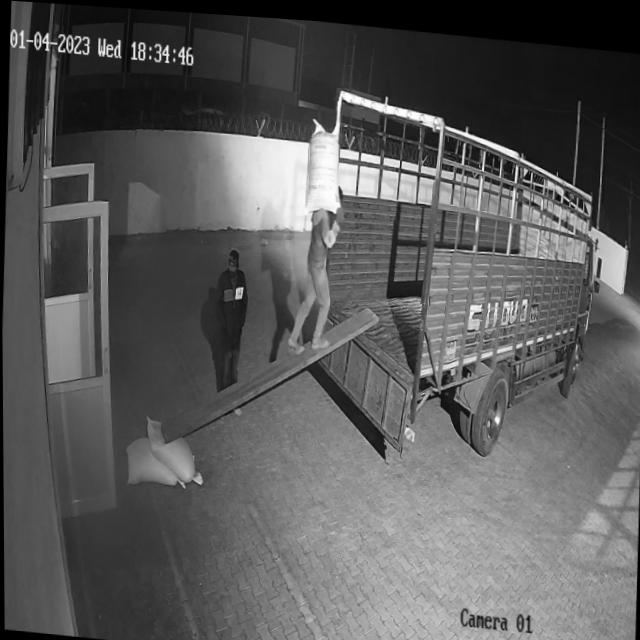sack: (142, 410, 204, 483), (303, 112, 343, 213), (122, 432, 187, 488)
